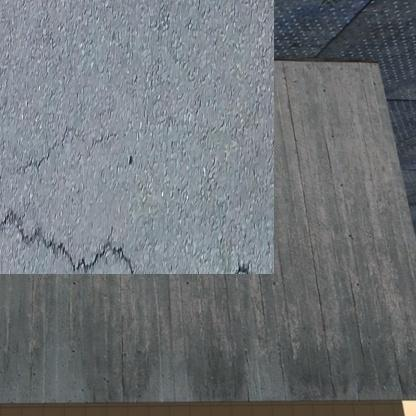Cracks: (0, 192, 127, 253), (13, 112, 65, 164), (213, 243, 238, 253), (250, 250, 253, 253)
